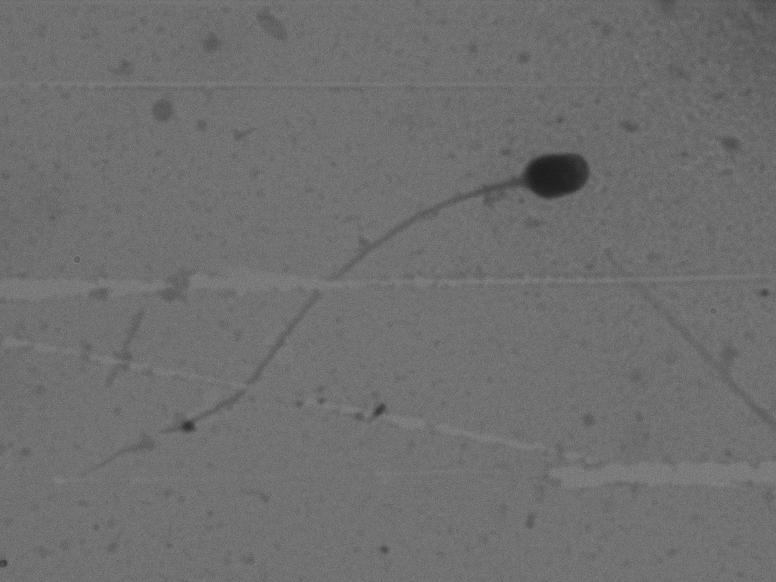Normal: (62, 114, 640, 527)
